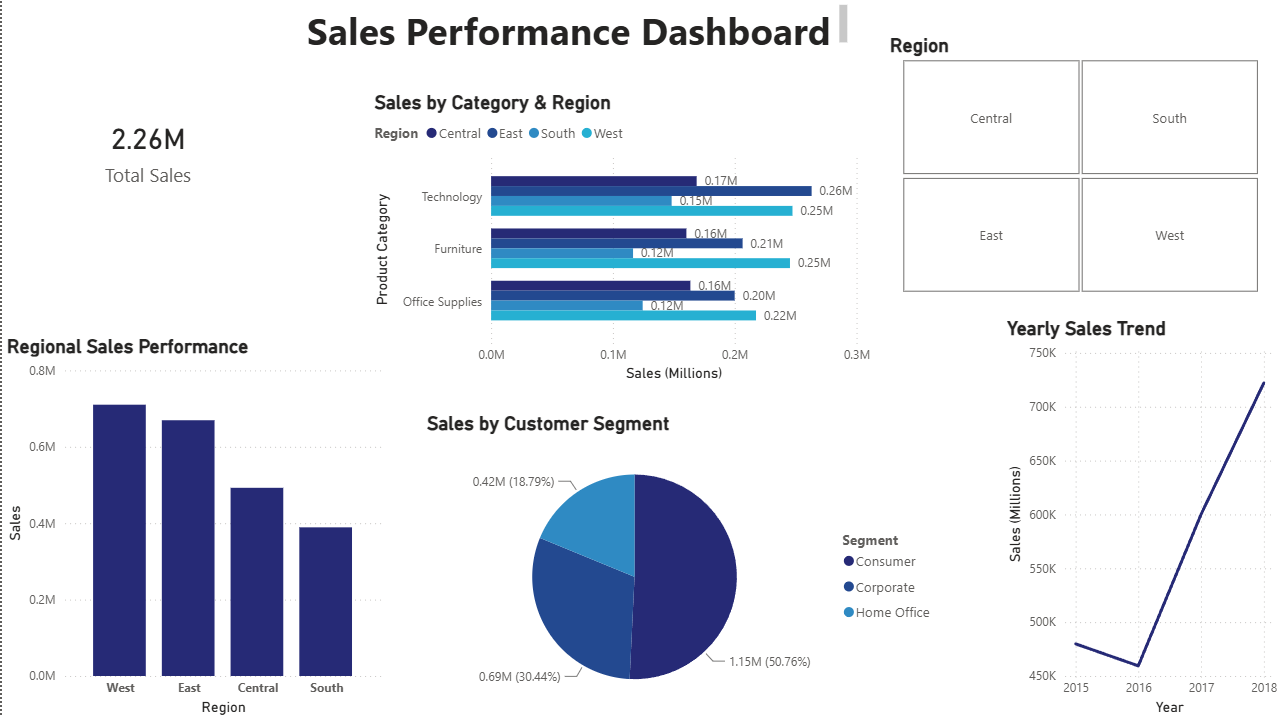

The page's visual inventory and layout, read from the dashboard file:
{"tool":"powerbi","page":{"name":"Page 1","canvas":[1280,720],"ordinal":0},"visuals":[{"type":"clusteredBarChart","title":"Sales by Category & Region","fields":{"Category":["train.Category"],"Y":["Sum(train.Sales)"],"Series":["train.Region"]},"box":[367.5,91.2,506.2,295],"z":0},{"type":"clusteredColumnChart","title":"Regional Sales Performance","fields":{"Y":["Sum(train.Sales)"],"Category":["train.Region"]},"box":[0,335,385,385],"z":1000},{"type":"pieChart","title":"Sales by Customer Segment","fields":{"Category":["train.Segment"],"Y":["Sum(train.Sales)"]},"box":[420,412.5,522.5,307.5],"z":2000},{"type":"lineChart","title":"Yearly Sales Trend","fields":{"Category":["train.Order Date.Variation.Date Hierarchy.Year","train.Order Date.Variation.Date Hierarchy.Quarter","train.Order Date.Variation.Date Hierarchy.Month","train.Order Date.Variation.Date Hierarchy.Day"],"Y":["Sum(train.Sales)"]},"box":[1000,317.5,280,402.5],"z":3000},{"type":"slicer","fields":{"Values":["train.Region"]},"box":[875,30,405,268.8],"z":4000},{"type":"card","fields":{"Values":["Sum(train.Sales)"]},"box":[0,0,292.5,298.8],"z":5000},{"type":"textbox","box":[292.5,0,557.5,60],"z":5001}]}

Visuals, with their boxes in screenshot pixels (x1, y1, x2, y2), scaled from the page's 1280x720 canvas onto the 1279x716 screenshot:
"Sales by Category & Region" clusteredBarChart: 367,91,873,384
"Regional Sales Performance" clusteredColumnChart: 0,333,385,715
"Sales by Customer Segment" pieChart: 420,410,942,715
"Yearly Sales Trend" lineChart: 999,316,1278,715
slicer - train.Region: 874,30,1278,297
card - Sum(train.Sales): 0,0,292,297
textbox: 292,0,849,60
